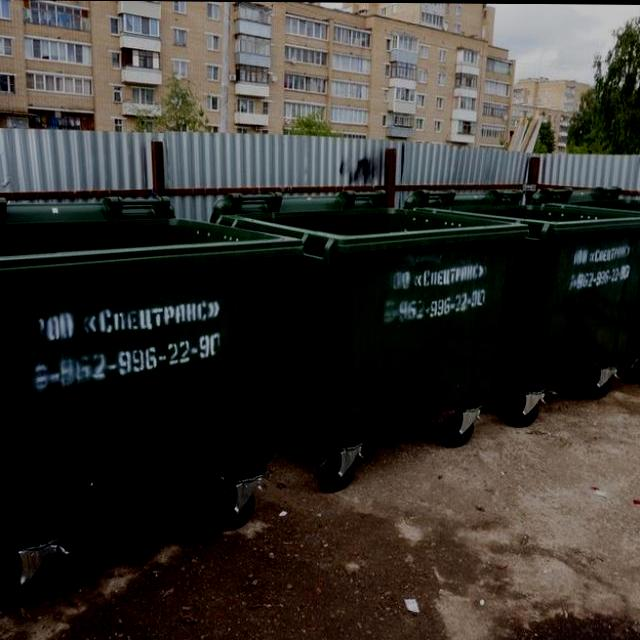Trash_Can_Empty: (0, 214, 307, 538), (233, 207, 528, 441), (431, 201, 640, 384)
